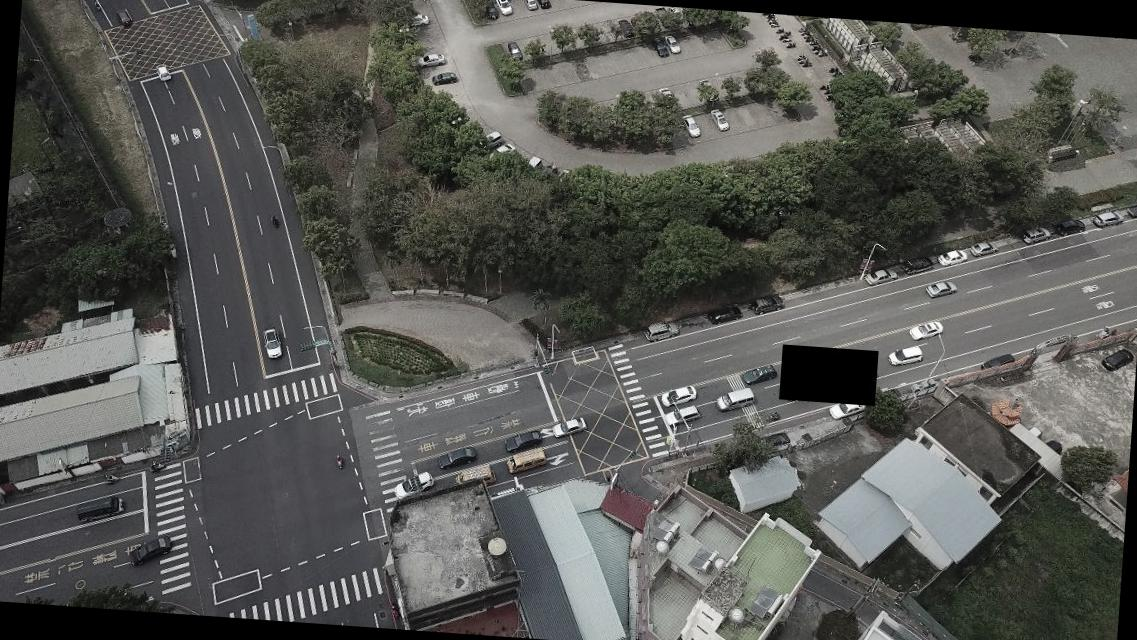vehicle: (74, 492, 124, 526), (129, 532, 174, 568), (452, 460, 499, 492), (392, 469, 436, 503), (504, 444, 547, 476), (436, 442, 480, 472), (826, 393, 869, 422), (714, 384, 755, 414), (502, 426, 544, 454), (738, 361, 779, 387), (661, 402, 702, 428), (658, 382, 698, 408), (550, 414, 588, 440), (748, 292, 786, 317), (887, 344, 924, 368), (644, 320, 680, 344), (260, 326, 284, 361), (706, 304, 744, 326), (980, 350, 1016, 373), (924, 277, 958, 301), (908, 320, 942, 342), (1101, 348, 1133, 371), (864, 266, 898, 286), (1053, 216, 1085, 236), (937, 248, 969, 268), (1093, 208, 1124, 228), (902, 255, 933, 275), (1022, 224, 1050, 246), (416, 50, 446, 69), (970, 239, 998, 258), (680, 114, 702, 138), (489, 140, 515, 159), (708, 110, 730, 132), (429, 70, 458, 86), (662, 32, 682, 54), (652, 36, 669, 58), (493, 0, 514, 17), (155, 62, 172, 82), (116, 8, 132, 28), (507, 41, 524, 59)
